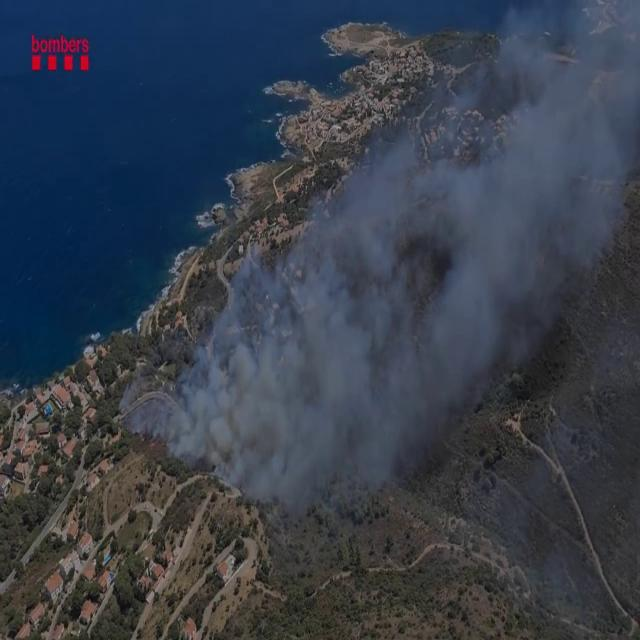Smoke: (170, 6, 640, 528)
